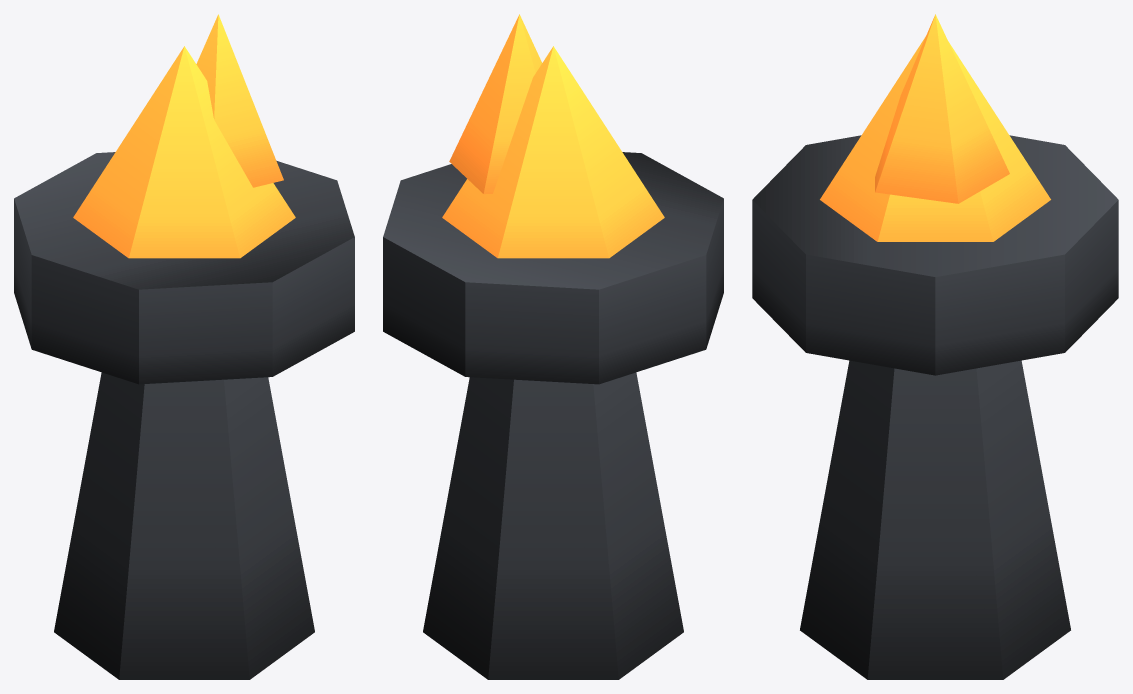
The model's file is brazier.glb.
3 views of the same model, side by side, from view 1: azimuth 30°, elevation 25°; view 2: azimuth 150°, elevation 25°; view 3: azimuth 270°, elevation 25° (orthographic). The views are drawn at different scales.
Visible parts, largest first — view 1: brazier; view 2: brazier; view 3: brazier.
Part boxes in pixels (box(x1,y1,x2,y2)): brazier: box(14, 14, 354, 679); brazier: box(383, 14, 723, 679); brazier: box(752, 14, 1118, 679).
Size of the model in its own units: 0.54 by 1.03 by 0.54.
Materials: 1 (1 with a texture image).
